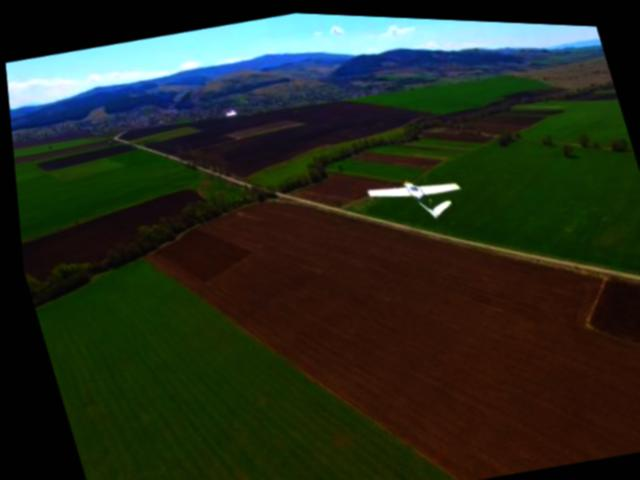uav: (356, 157, 473, 234)
